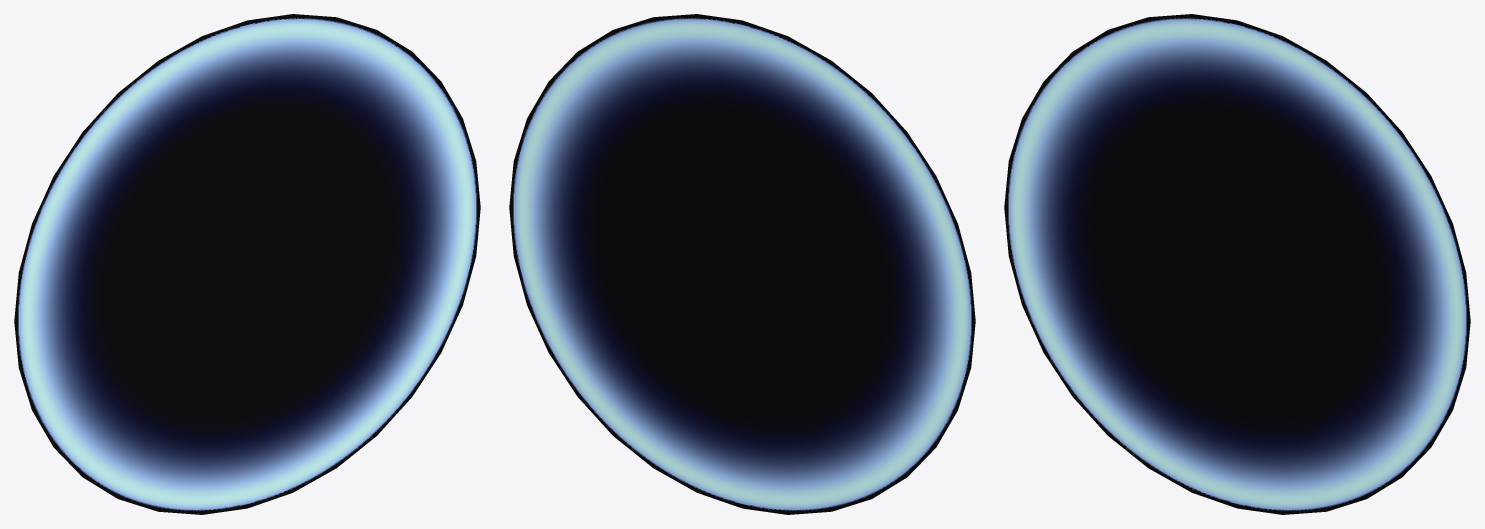
The model's file is boost_ring.glb.
3 views of the same model, side by side, from view 1: azimuth 30°, elevation 25°; view 2: azimuth 150°, elevation 25°; view 3: azimuth 330°, elevation 25° (orthographic).
Parts seen in each view (by area): view 1: Object_2; view 2: Object_2; view 3: Object_2.
Part boxes in pixels (x1,y1,x2,y2): Object_2: (14, 14, 480, 514); Object_2: (509, 14, 975, 514); Object_2: (1004, 14, 1470, 514).
Size of the model in its own units: 2 by 2 by 4.44e-16.
1 material, 1 textured.
